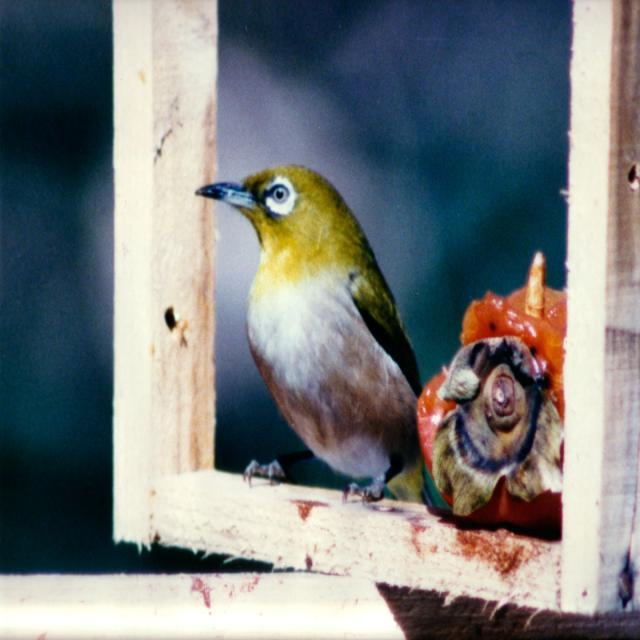bird: (202, 149, 457, 522)
